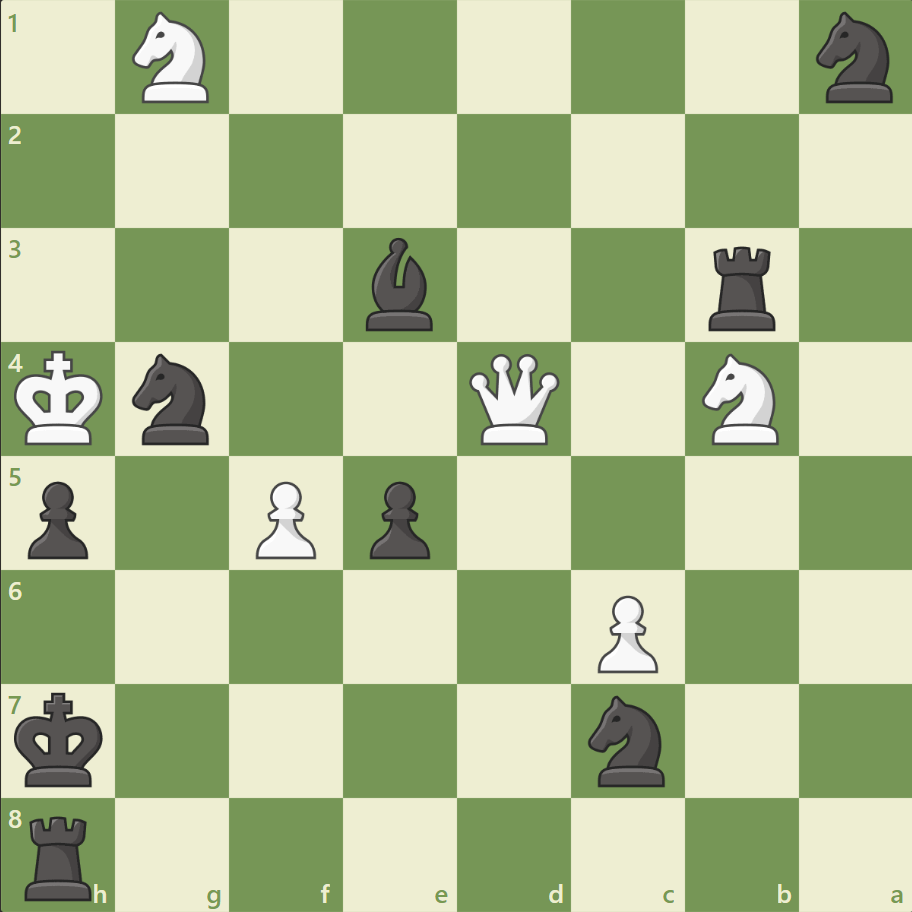K: (11, 344, 111, 452)
N: (124, 7, 222, 110), (692, 348, 789, 450)
P: (247, 473, 322, 564), (588, 586, 662, 677)
Q: (464, 349, 563, 449)
b: (358, 233, 442, 336)
k: (11, 685, 111, 793)
n: (124, 348, 222, 450), (579, 688, 676, 791), (806, 7, 903, 110)
p: (20, 473, 95, 564), (361, 473, 435, 564)
r: (19, 806, 102, 904), (700, 239, 783, 336)
